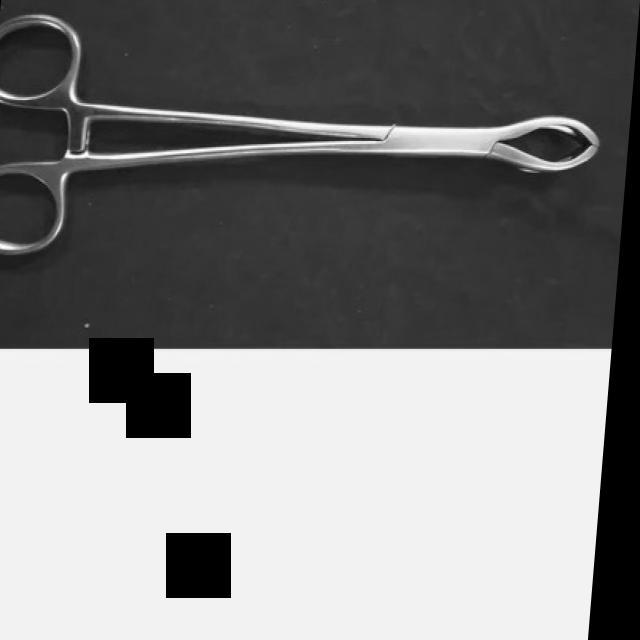Babcock Forceps: (0, 6, 626, 261)
